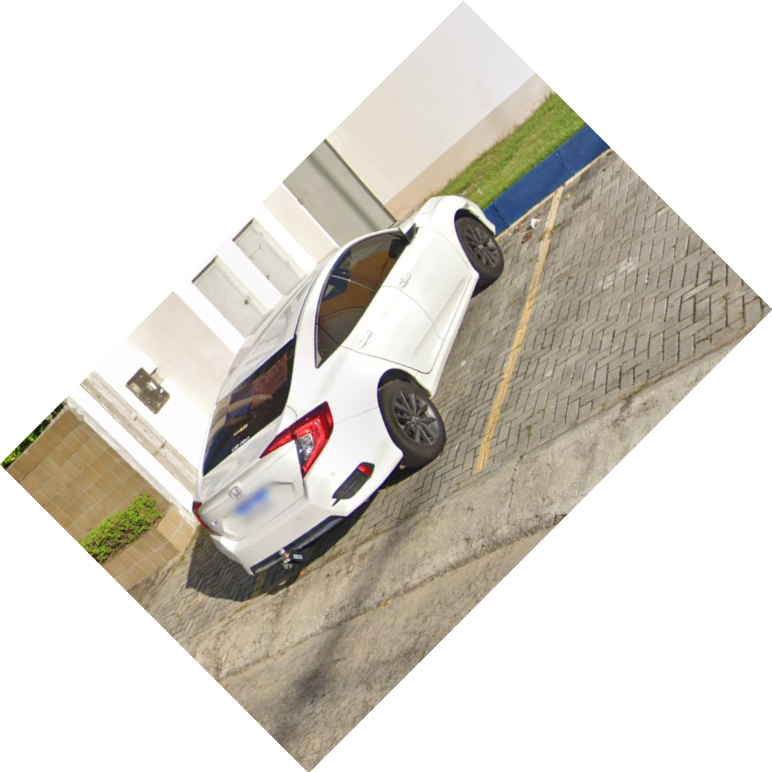car: (190, 193, 506, 583)
